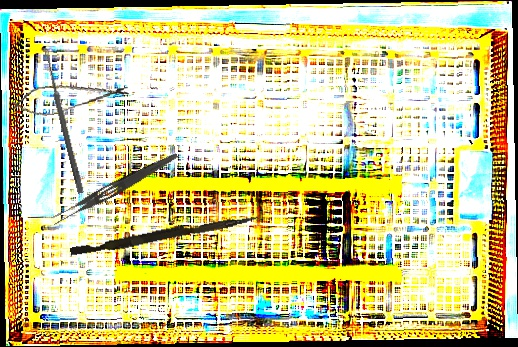Dressing Forceps: (49, 146, 180, 229)
Micro Scissor: (10, 74, 131, 121)
Pusher: (69, 208, 259, 261)
Surgical Spoon: (42, 49, 85, 194)
